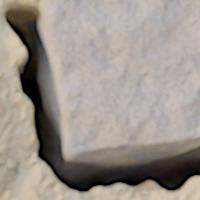brick: (42, 0, 199, 156)
crack: (0, 1, 199, 198)
